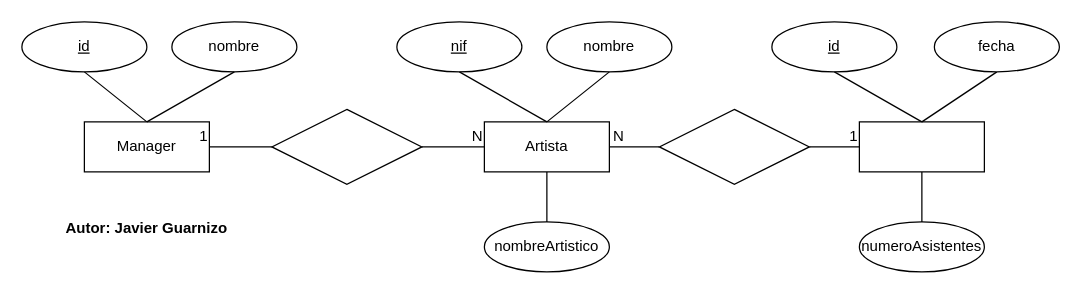
Image size: 1081x294. Some labels were removed from this diagram. The centre of each missing label's shape, as x and y in pixels:
dirije: [346,146]
Evento: [921,146]
participa: [733,146]
